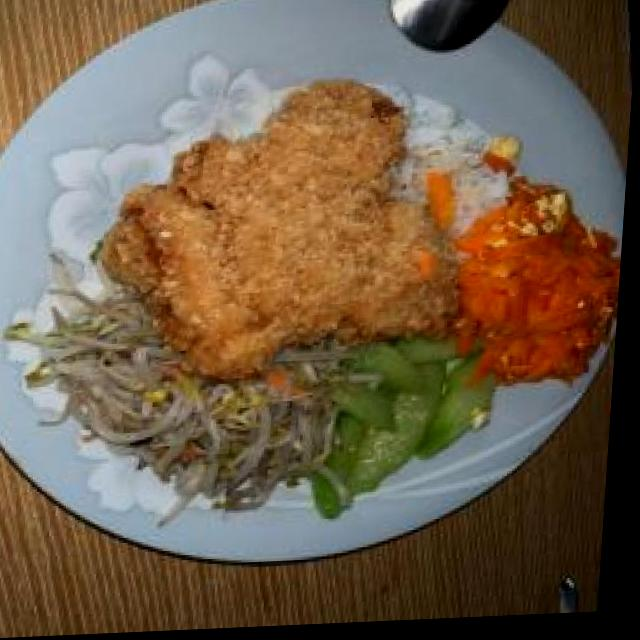carrot_eggs: (456, 188, 629, 390)
fried_chicken: (100, 78, 473, 381)
mung_bean_sprouts: (66, 347, 341, 495)
rice: (378, 102, 514, 244)
